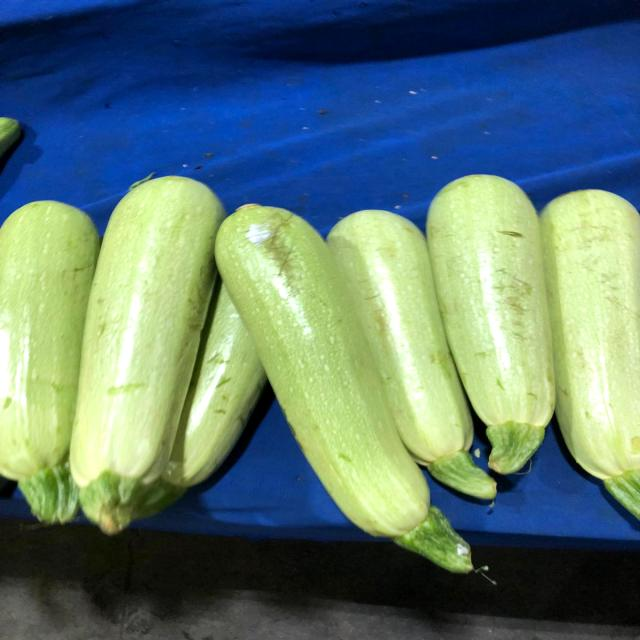zucchini: (215, 195, 512, 590), (64, 154, 224, 538), (412, 166, 572, 476), (0, 201, 100, 524)
